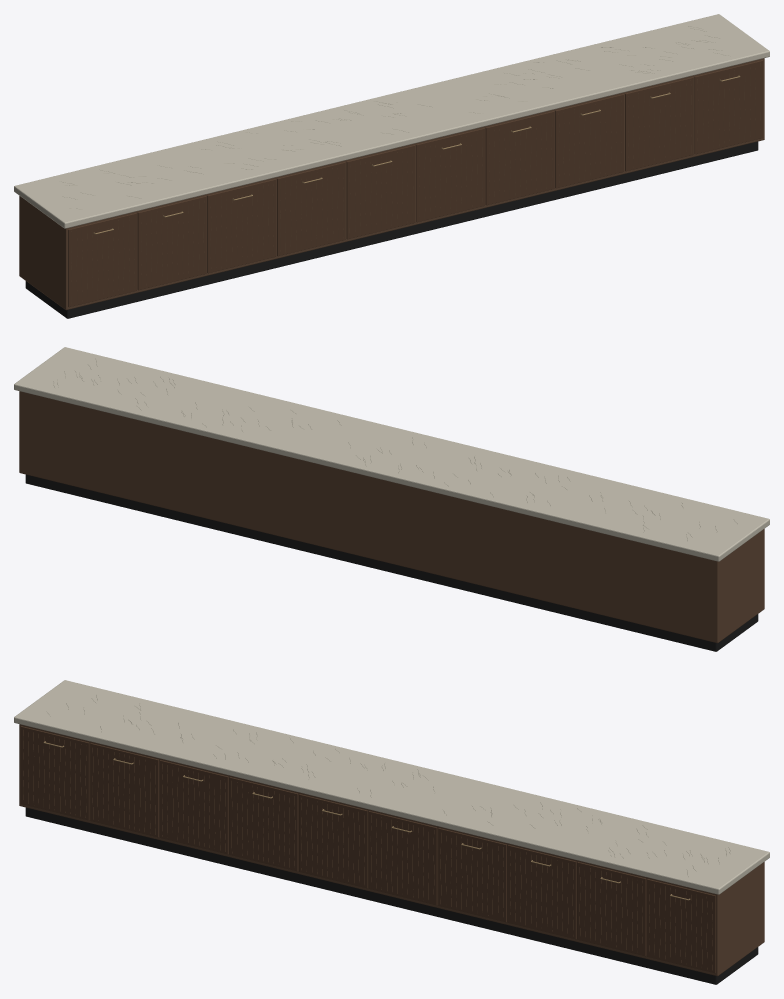
The model's file is cabinet.glb.
The picture shows the model from 3 angles, top to bottom: view 1: azimuth 30°, elevation 25°; view 2: azimuth 150°, elevation 25°; view 3: azimuth 330°, elevation 25°; orthographic projection.
Parts seen in each view (by area): view 1: 실내 조명 베이크용 cabinet; view 2: 실내 조명 베이크용 cabinet; view 3: 실내 조명 베이크용 cabinet.
Boxes of the visible parts, x1=… form: 실내 조명 베이크용 cabinet: x1=14, y1=14, x2=769, y2=318; 실내 조명 베이크용 cabinet: x1=14, y1=347, x2=769, y2=651; 실내 조명 베이크용 cabinet: x1=14, y1=680, x2=769, y2=984.
Bounding box in the file's own units: 6.48 × 0.8907 × 0.8187.
